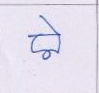o_matra: (52, 23, 63, 53)
